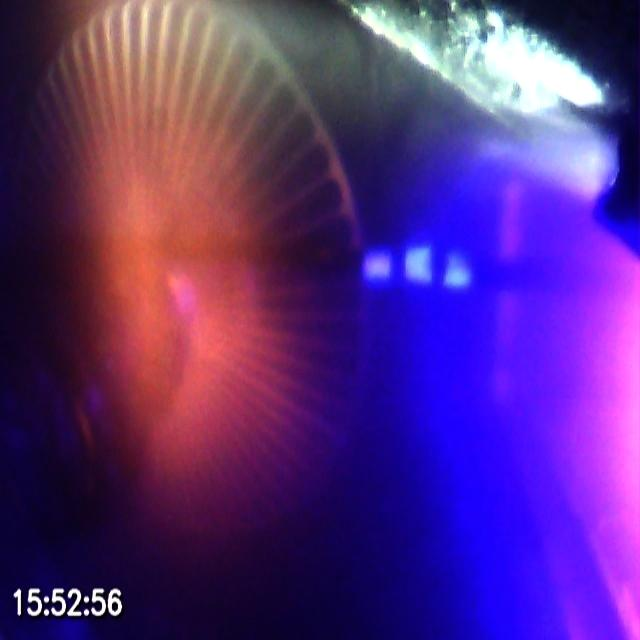white-dots: (362, 243, 473, 292)
